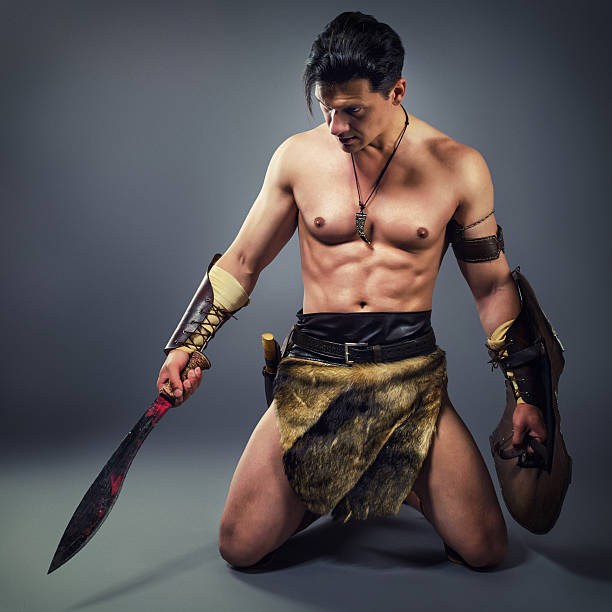knife: (44, 347, 215, 578)
